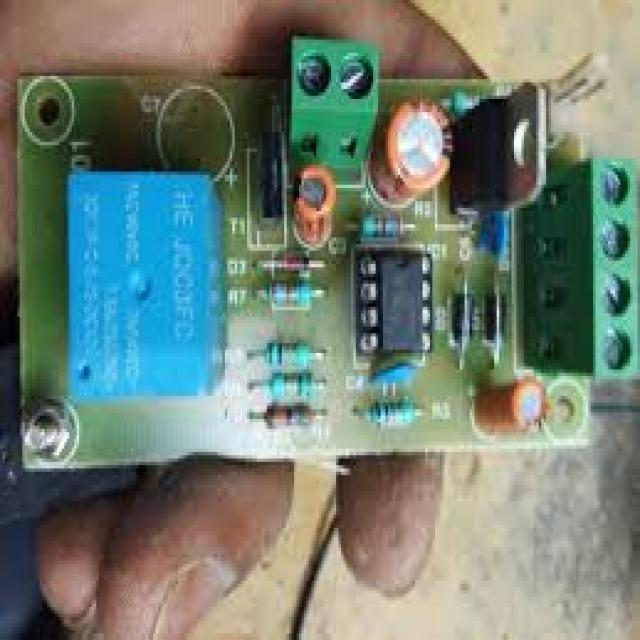pcb: (10, 36, 637, 485), (15, 70, 289, 468), (64, 165, 228, 399), (516, 152, 638, 382), (284, 30, 381, 188), (348, 240, 432, 360)
